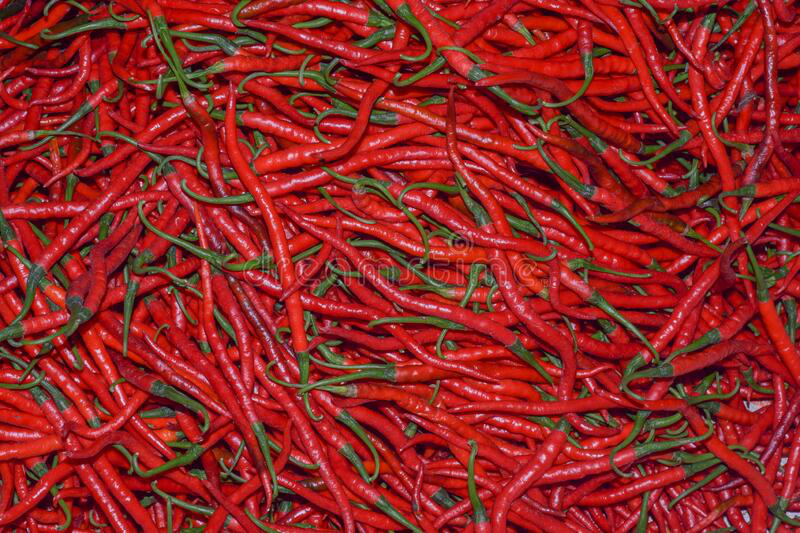Cabai: (147, 95, 630, 474)
